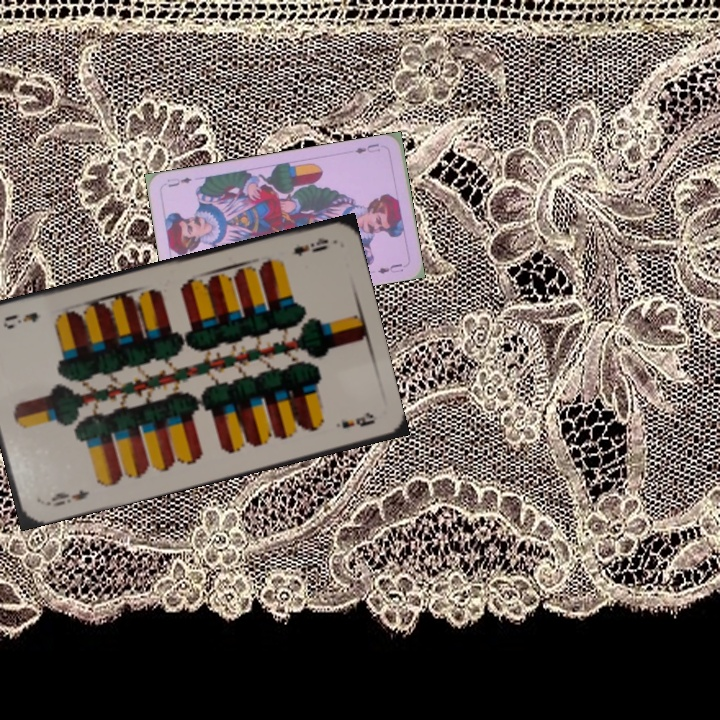E9: (42, 485, 92, 509), (289, 233, 332, 259)
EU: (346, 139, 382, 156)
